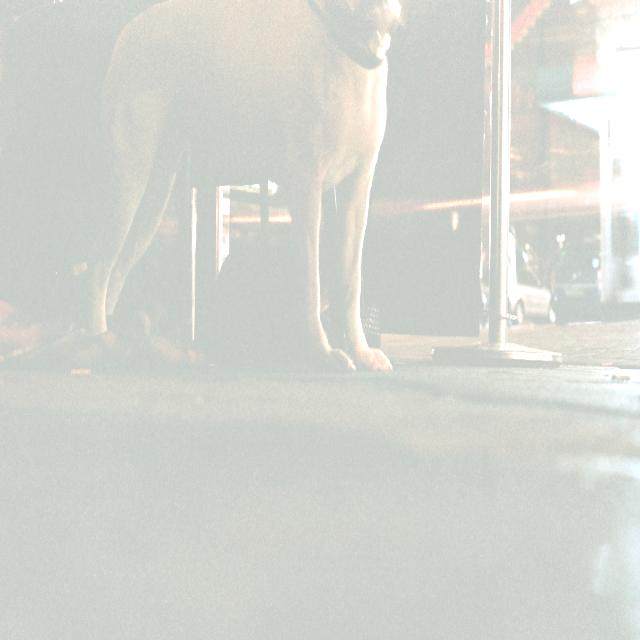Dog: (88, 0, 393, 374)
